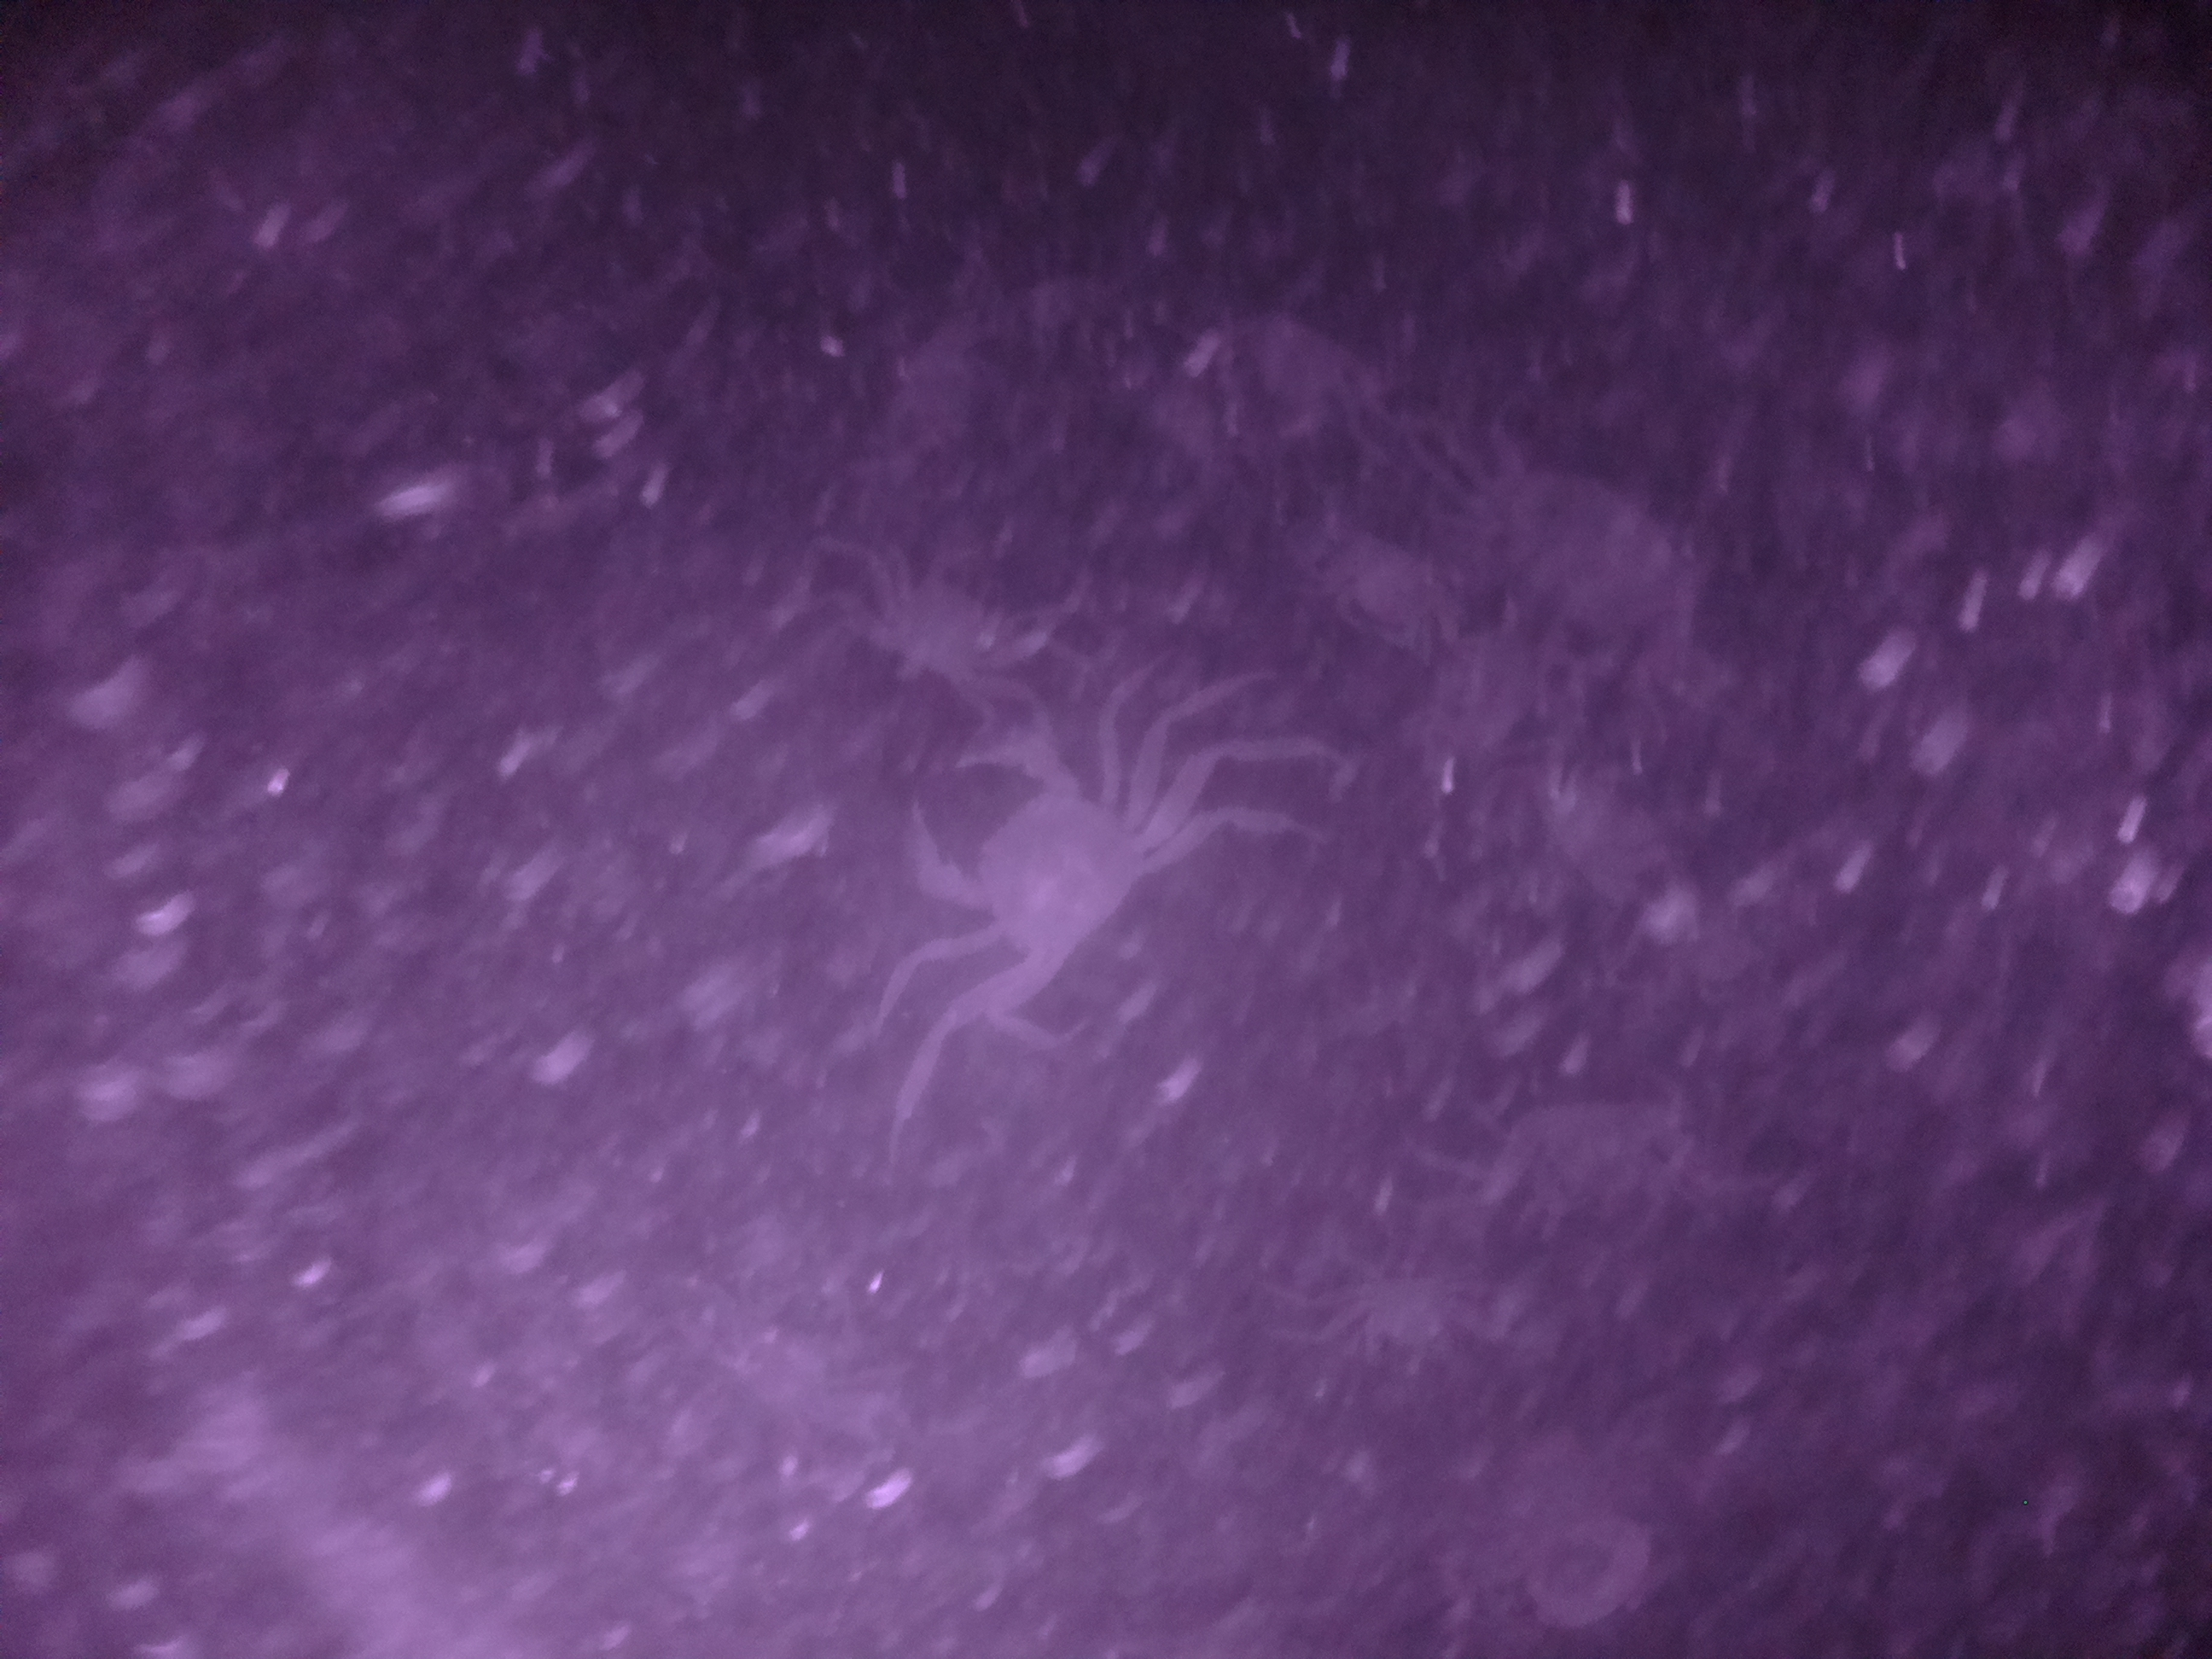Crab: (890, 718, 1167, 988), (862, 538, 1043, 709), (1341, 1253, 1491, 1378)
